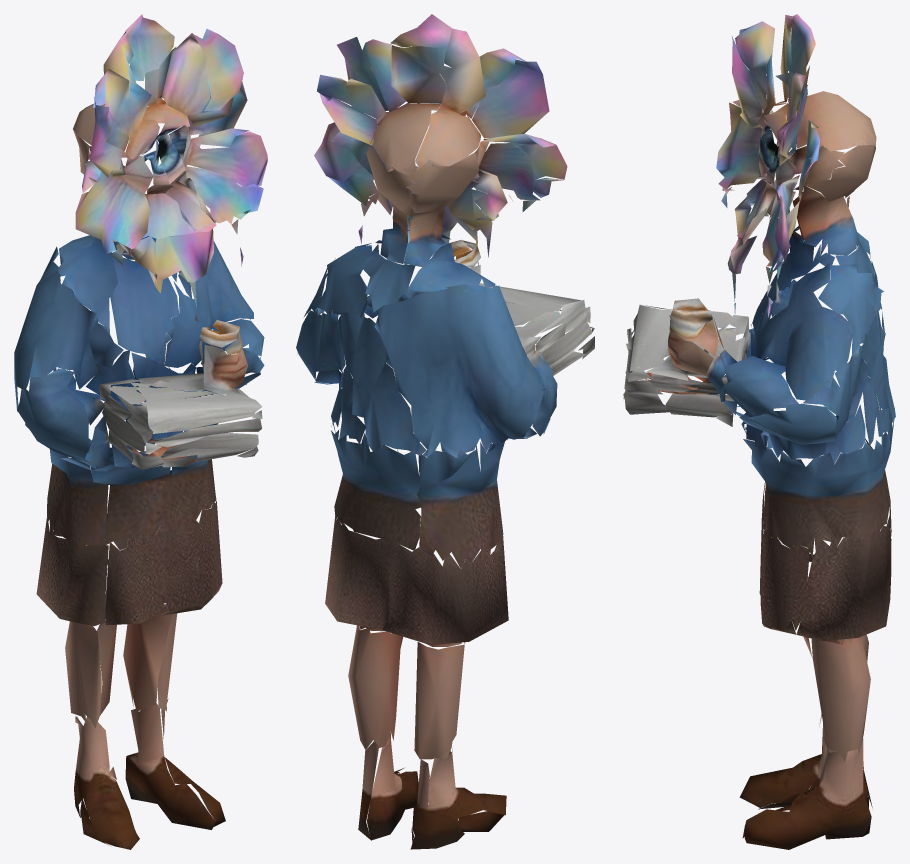
Rendered from crowd_assistant_full.glb.
3 views of the same model, side by side, from view 1: azimuth 30°, elevation 25°; view 2: azimuth 150°, elevation 25°; view 3: azimuth 270°, elevation 25° (orthographic).
Parts seen in each view (by area): view 1: tripo_node_583bd843-d0c9-4fd2-bfd0-3545a6174963; view 2: tripo_node_583bd843-d0c9-4fd2-bfd0-3545a6174963; view 3: tripo_node_583bd843-d0c9-4fd2-bfd0-3545a6174963.
Boxes of the visible parts, x1,y1,x2,y2 form: tripo_node_583bd843-d0c9-4fd2-bfd0-3545a6174963: (14,14,267,849); tripo_node_583bd843-d0c9-4fd2-bfd0-3545a6174963: (296,14,594,849); tripo_node_583bd843-d0c9-4fd2-bfd0-3545a6174963: (623,14,895,849).
Size of the model in its own units: 0.311 by 1 by 0.3066.
1 material, 1 textured.
